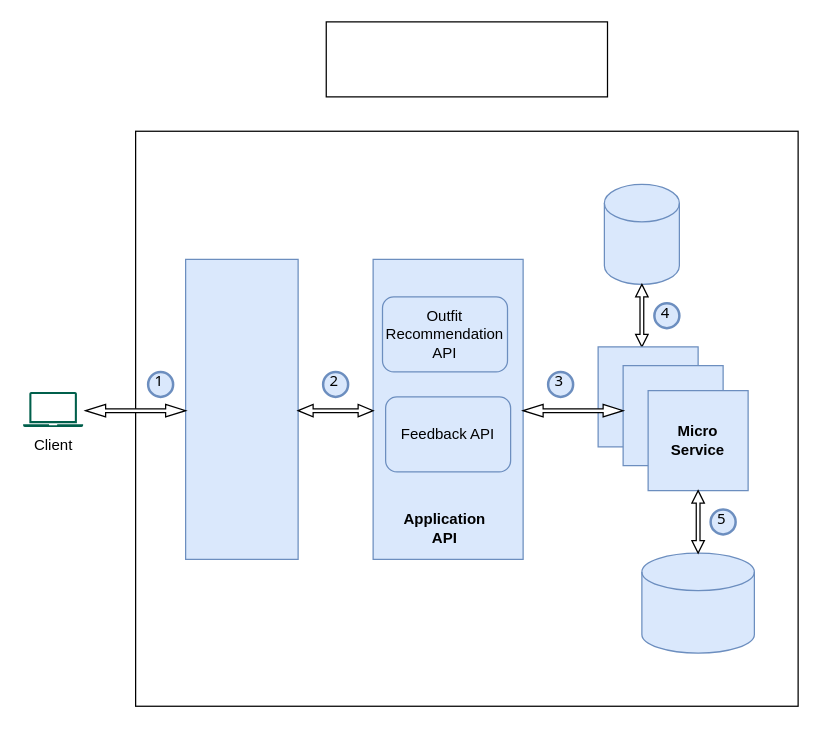
The diagram is 820 pixels wide and 729 high, and some of its shapes have lost their labels. Here are the shapes that lost their labels. From the top down, the centre of each, then its label:
At point (466, 59): "Outfit Recommendation System".
At point (641, 233): "Cache".
At point (241, 408): "API Gateway Service".
At point (697, 602): "Database".
